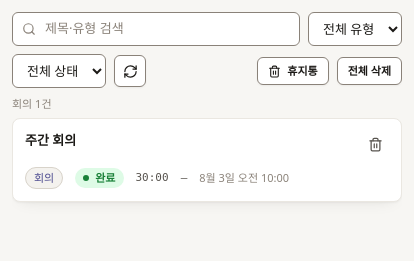
Scenario: 휴지통 화면 › [휴지통] 토글이 휴지통 목록을 읽어 온다
Expected: the text "주간 회의" is shown, [25,131,76,150]
Click the button "휴지통".
click(293, 71)  # box [257,57,329,85]
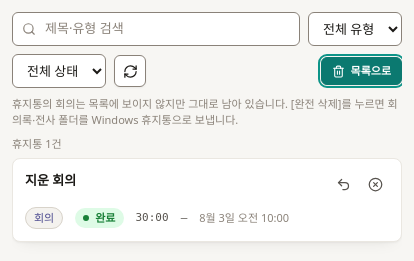
Now the text "지운 회의" is shown, box [25,171,76,190]
Now the text "휴지통 1건" is shown, box [12,136,62,151]
